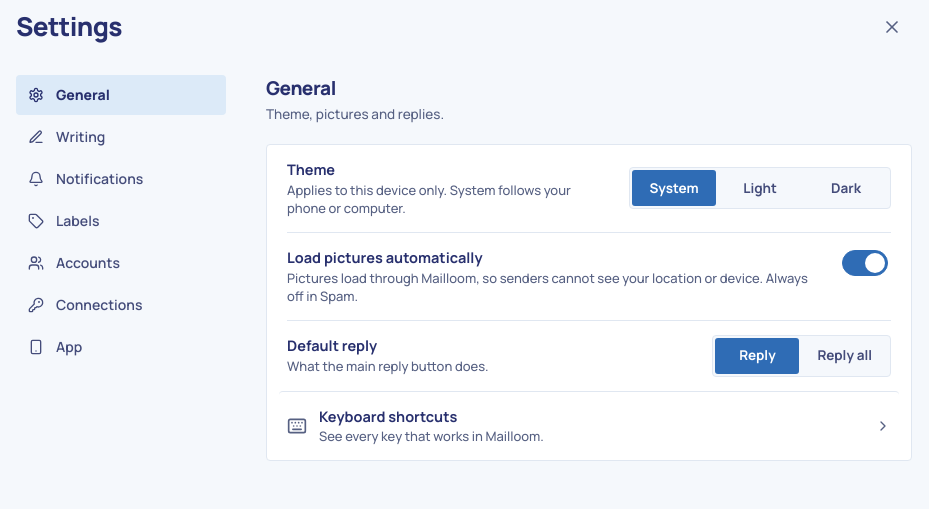
Test case: Load pictures automatically › puts the switch back and says so when the server refuses
This screenshot has width=929, height=514.
What coordinates should you click on to do the following:
click the switch named "Load pictures automatically"
I would click on:
 (865, 263)
Its box is [839, 241, 891, 285].
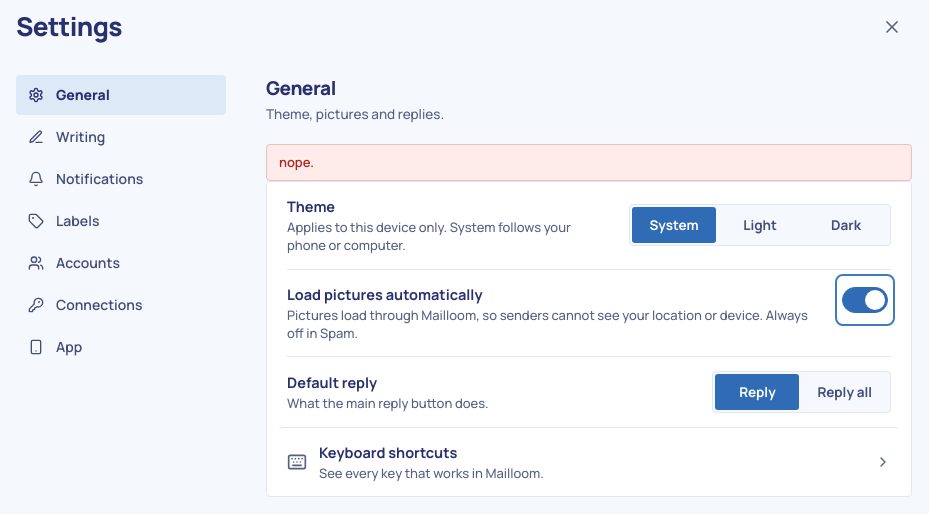
Expected: the message "nope." is shown, [266, 144, 912, 181]
